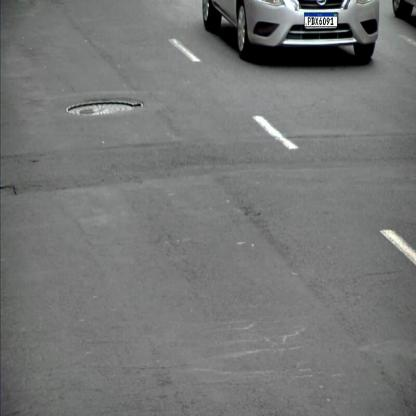PlacaM: (304, 13, 338, 27)
